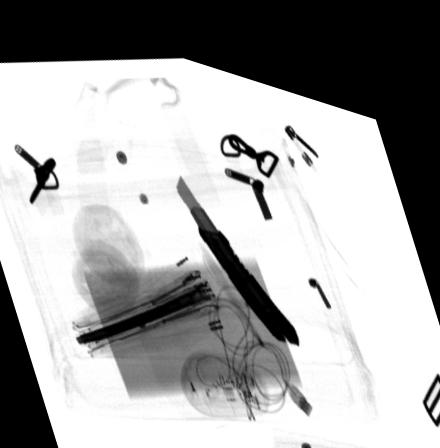Knife: (175, 163, 299, 329)
